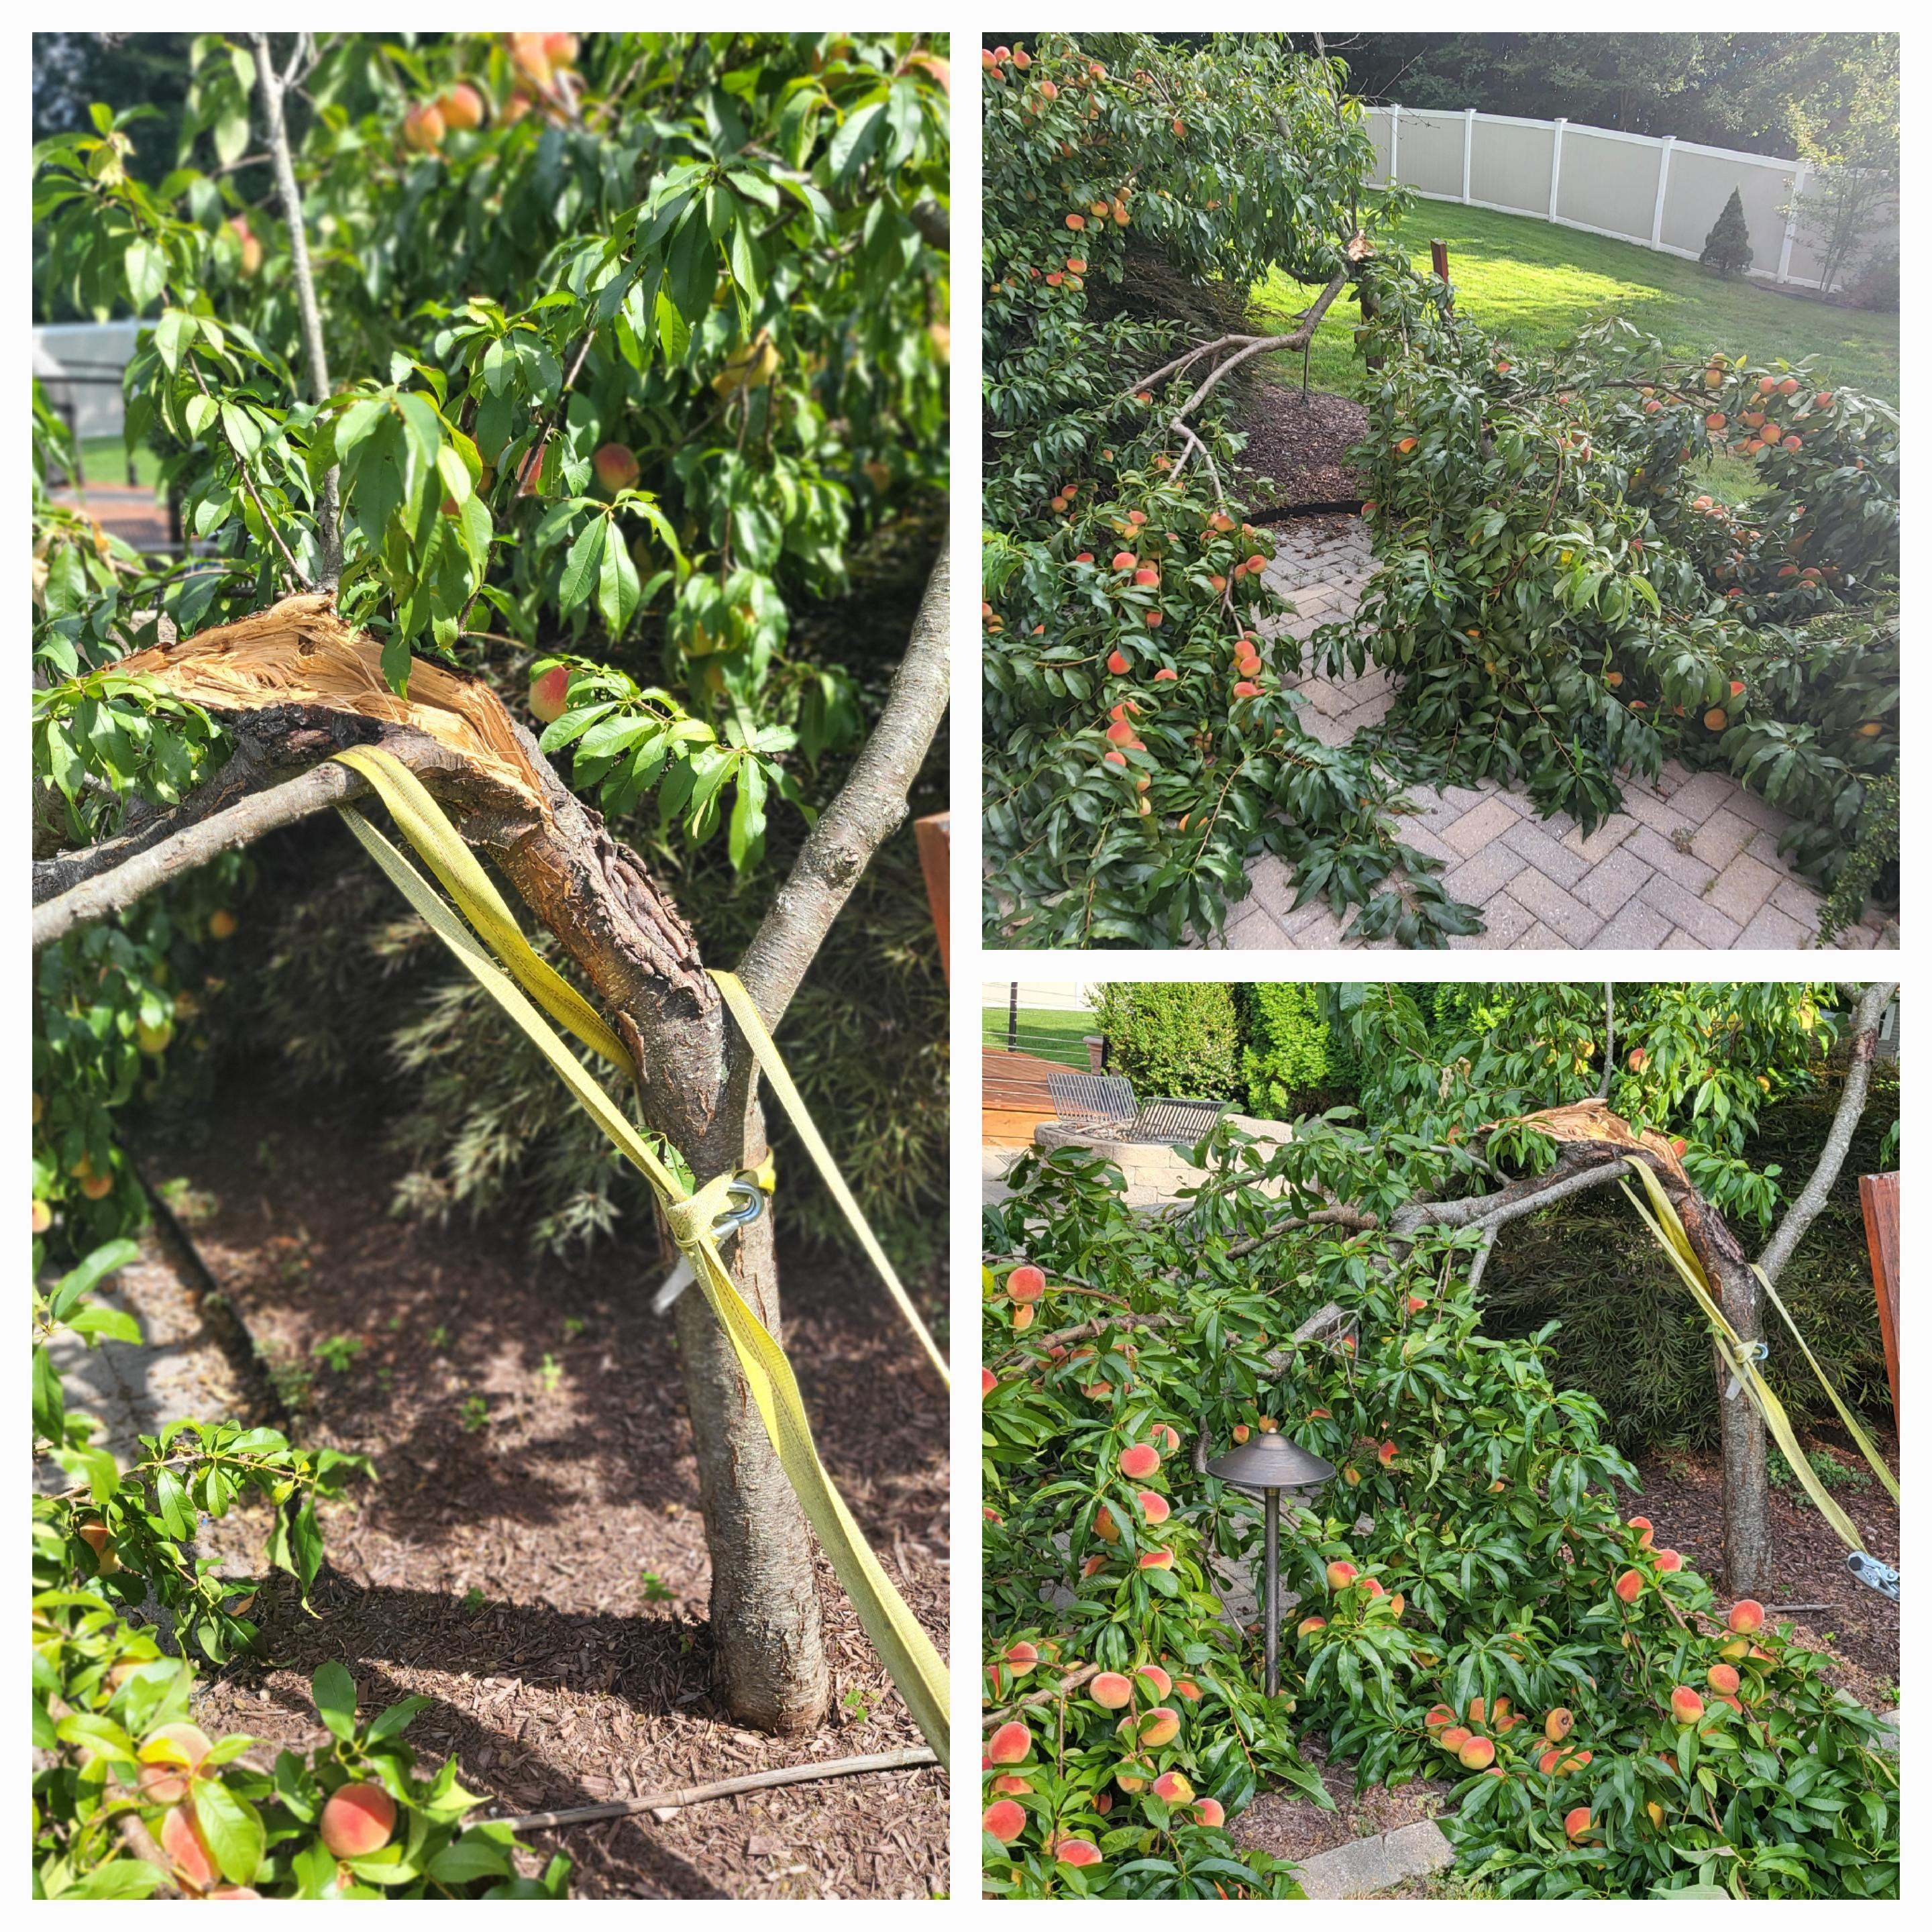mechanical damage: (124, 596, 540, 801), (1518, 1099, 1686, 1180)
